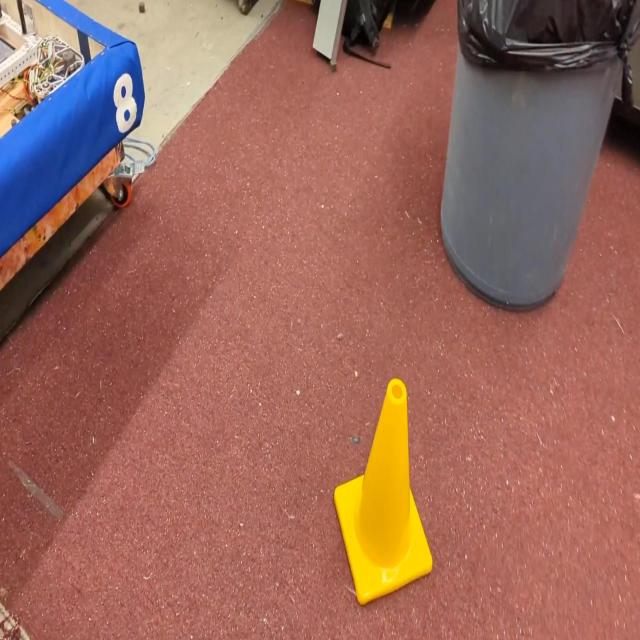frc_cone: (334, 376, 433, 606)
